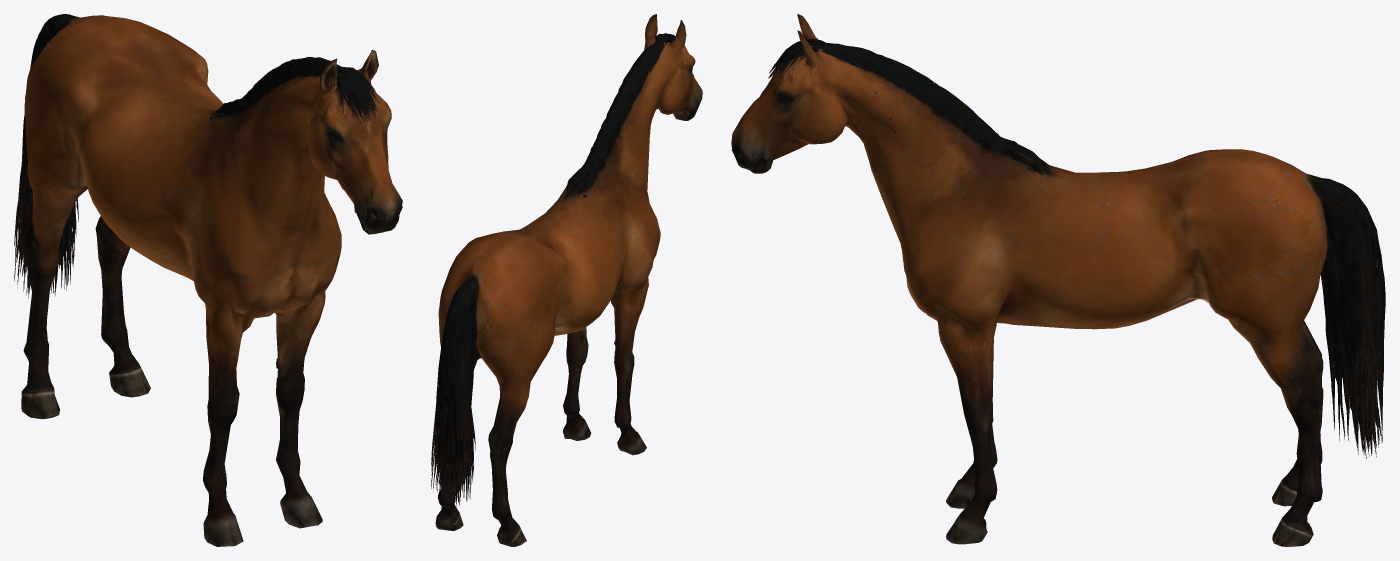
The model's file is horse_mid.glb.
3 renders of one model, left to right at view 1: azimuth 30°, elevation 25°; view 2: azimuth 150°, elevation 25°; view 3: azimuth 270°, elevation 25°, orthographic. The views are drawn at different scales.
Parts seen in each view (by area): view 1: horse; view 2: horse; view 3: horse.
Part boxes in pixels (x1,y1,x2,y2): horse: [14, 14, 402, 546]; horse: [431, 14, 702, 546]; horse: [731, 14, 1385, 546].
Size of the model in its own units: 0.5814 by 2.01 by 2.4.
1 material, 1 textured.
